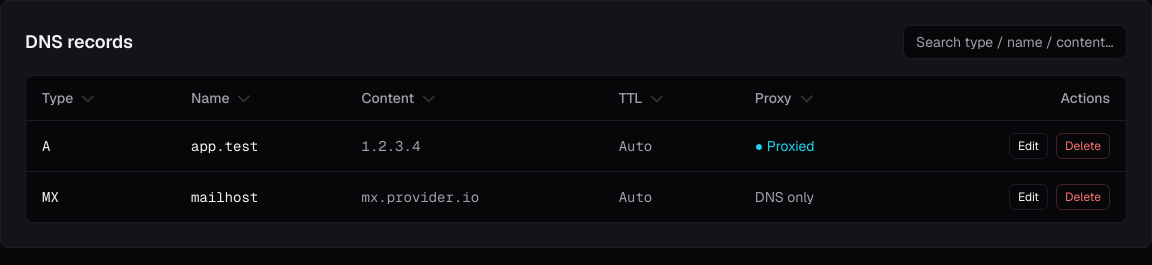
Test: DnsRecordsTable › shows proxy status and filters rows by search
Expected: the text "app.test" is shown, [191,137,258,155]
Expected: the text "● Proxied" is shown, [755,137,815,155]
Type "mailhost" into the field named "Search records". click: (1015, 42)
box: [903,25,1127,59]
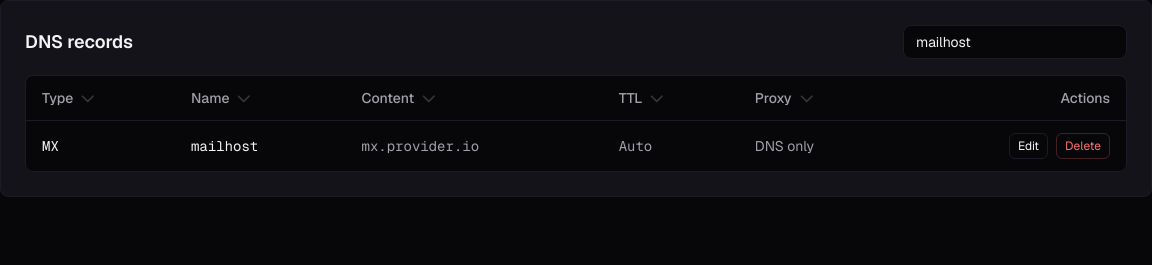
Expected: the text "mailhost" is shown, [191,137,258,155]
Expected: the text "app.test" is gone
